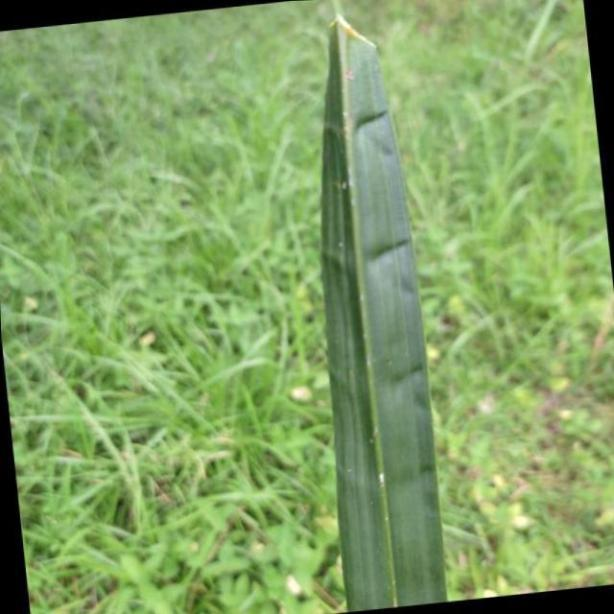Boron: (316, 9, 446, 614)
